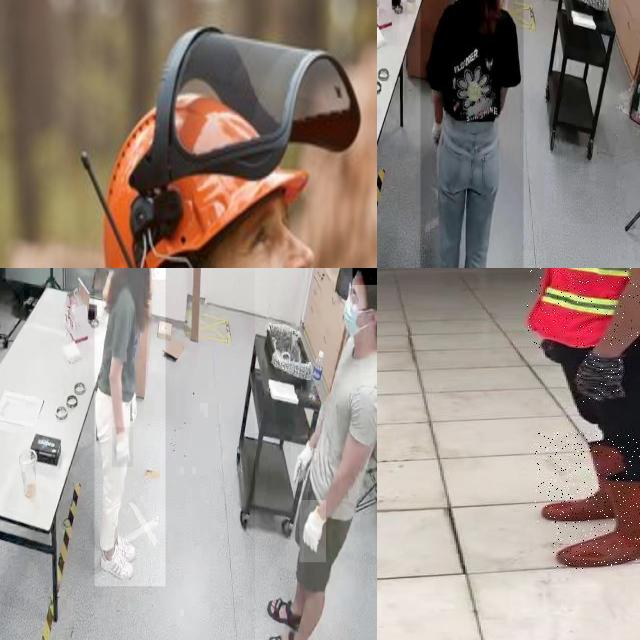Ear-protection: (105, 175, 339, 268)
No_Glasses: (243, 181, 303, 268)
boots: (535, 432, 640, 525), (553, 477, 640, 569)
face_mask: (340, 276, 366, 342)
hand_glove: (300, 500, 326, 563), (291, 436, 313, 492), (112, 427, 134, 468)
head_nohelmet: (352, 268, 377, 285)
person: (83, 65, 377, 268), (255, 268, 377, 640), (499, 268, 640, 582), (420, 0, 523, 268), (94, 268, 165, 587)
shoes: (98, 542, 134, 582), (108, 532, 136, 561)
vest: (527, 268, 640, 350)
